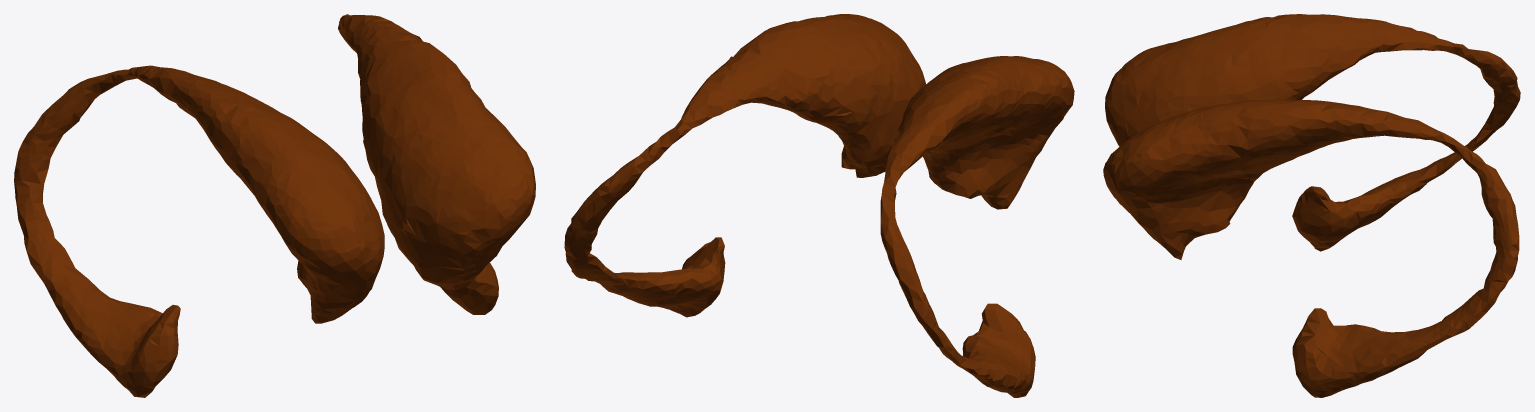
Rendered from 120-Cd-caudate nucleus-('0.4980', '0.2078', '0.0000').obj.
3 renders of one model, left to right at view 1: azimuth 30°, elevation 25°; view 2: azimuth 150°, elevation 25°; view 3: azimuth 270°, elevation 25°, orthographic. The views are drawn at different scales.
Bounding box in the file's own units: 198 × 135 × 196.
